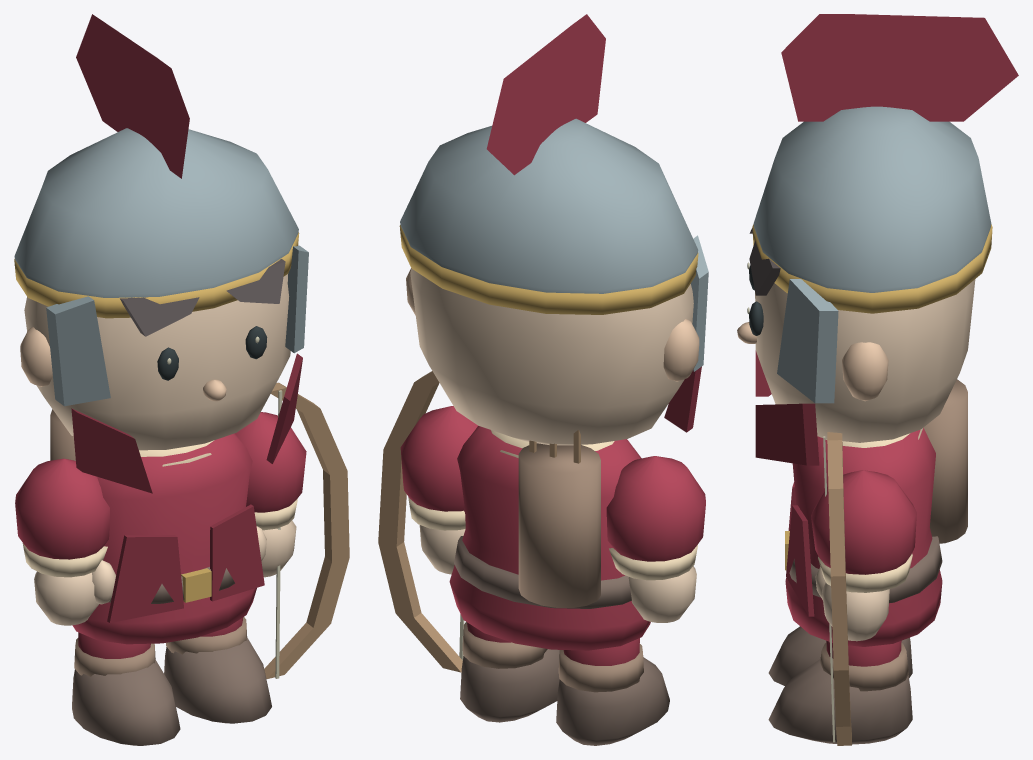
The model's file is archer.glb.
The picture shows the model from 3 angles, left to right: view 1: azimuth 30°, elevation 25°; view 2: azimuth 150°, elevation 25°; view 3: azimuth 270°, elevation 25°; orthographic projection. The views are drawn at different scales.
Parts seen in each view (by area): view 1: Regional helmet, Soft cheek head, Short folded tunic, Roman horsehair fan, Puff sleeve, Curved bow, Round leather boot, Round leather boot.001, Roman cheekplate, Coat fold, Puff sleeve.001, Hood cheek cowl (+19 smaller); view 2: Regional helmet, Soft cheek head, Short folded tunic, Quiver leather, Roman horsehair fan, Puff sleeve, Curved bow, Helmet brow band, Round leather boot, Puff sleeve.001, Round leather boot.001, Broad leather belt (+10 smaller); view 3: Regional helmet, Roman horsehair fan, Soft cheek head, Short folded tunic, Puff sleeve.001, Round leather boot.001, Roman cheekplate.001, Quiver leather, Curved bow, Helmet brow band, Hood cheek cowl R, Ear.001 (+9 smaller).
Boxes of the visible parts, x1,y1,x2,y2 form: Regional helmet: (14,128,298,297); Soft cheek head: (24,274,290,450); Short folded tunic: (72,433,256,644); Roman horsehair fan: (76,14,189,178); Puff sleeve: (15,458,109,559); Curved bow: (264,382,349,678); Round leather boot: (72,659,180,745); Round leather boot.001: (164,637,271,723); Roman cheekplate: (46,296,110,406); Coat fold: (107,535,183,622); Puff sleeve.001: (235,412,306,512); Hood cheek cowl: (71,408,152,493); Regional helmet: (400,118,698,293); Soft cheek head: (410,268,693,445); Short folded tunic: (449,426,650,650); Quiver leather: (518,443,600,607); Roman horsehair fan: (486,14,605,175); Puff sleeve: (606,456,705,561); Curved bow: (378,371,462,672); Helmet brow band: (399,225,698,314); Round leather boot: (556,657,669,745); Puff sleeve.001: (400,406,477,511); Round leather boot.001: (460,649,559,722); Broad leather belt: (454,536,631,608); Regional helmet: (753,106,991,292); Roman horsehair fan: (781,14,1018,121); Soft cheek head: (755,279,975,442); Short folded tunic: (785,428,942,646); Puff sleeve.001: (811,470,916,574); Round leather boot.001: (768,659,912,744); Roman cheekplate.001: (777,279,838,403); Quiver leather: (923,379,967,543); Curved bow: (827,432,851,745); Helmet brow band: (752,224,992,313); Hood cheek cowl R: (755,403,819,465); Ear.001: (842,342,888,401).
Size of the model in its own units: 0.89 by 1.79 by 0.664.
